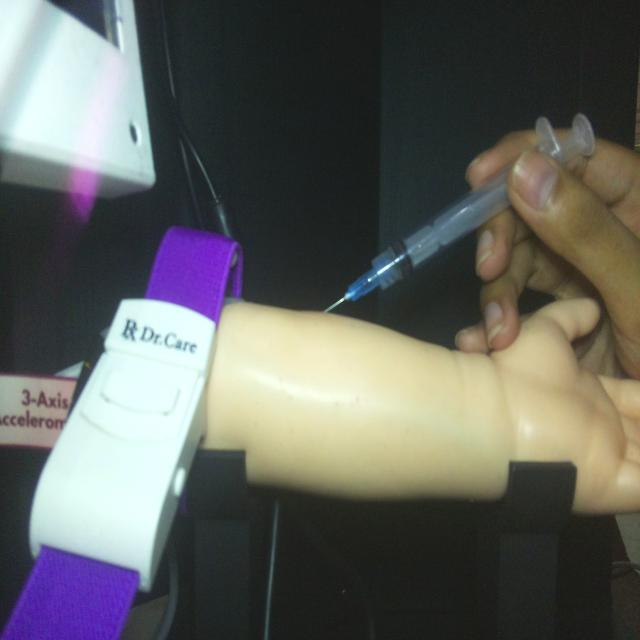27 degrees: (322, 110, 596, 316)
